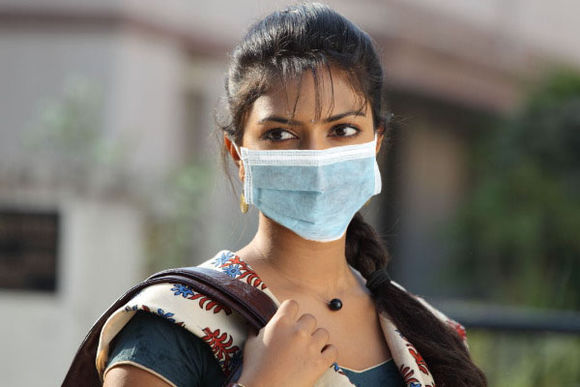face_mask: (248, 69, 375, 241)
